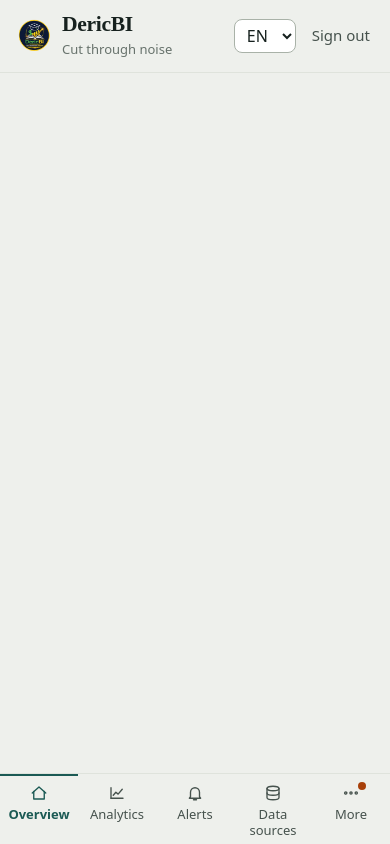
Test: account recovery reminder › puts a dot, with words for screen readers, on Settings and on More while security questions are missing
The width and height of the screenshot is (390, 844).
Click the button "More" at (351, 802), box x1=312 y1=774 x2=389 y2=830
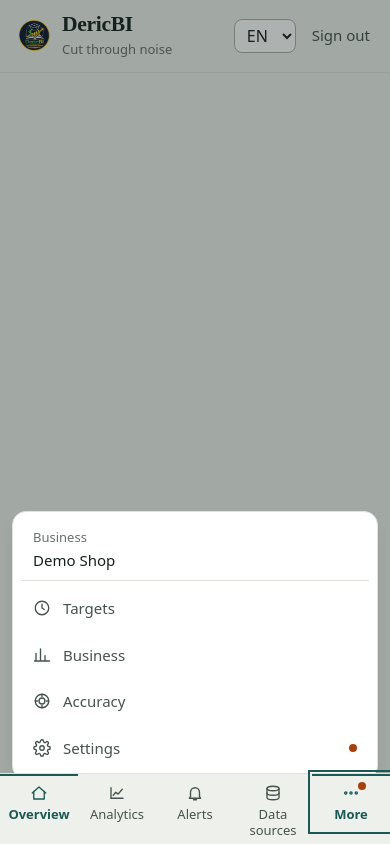
expect the link "Settings" is shown: met, box x1=21 y1=724 x2=369 y2=771
